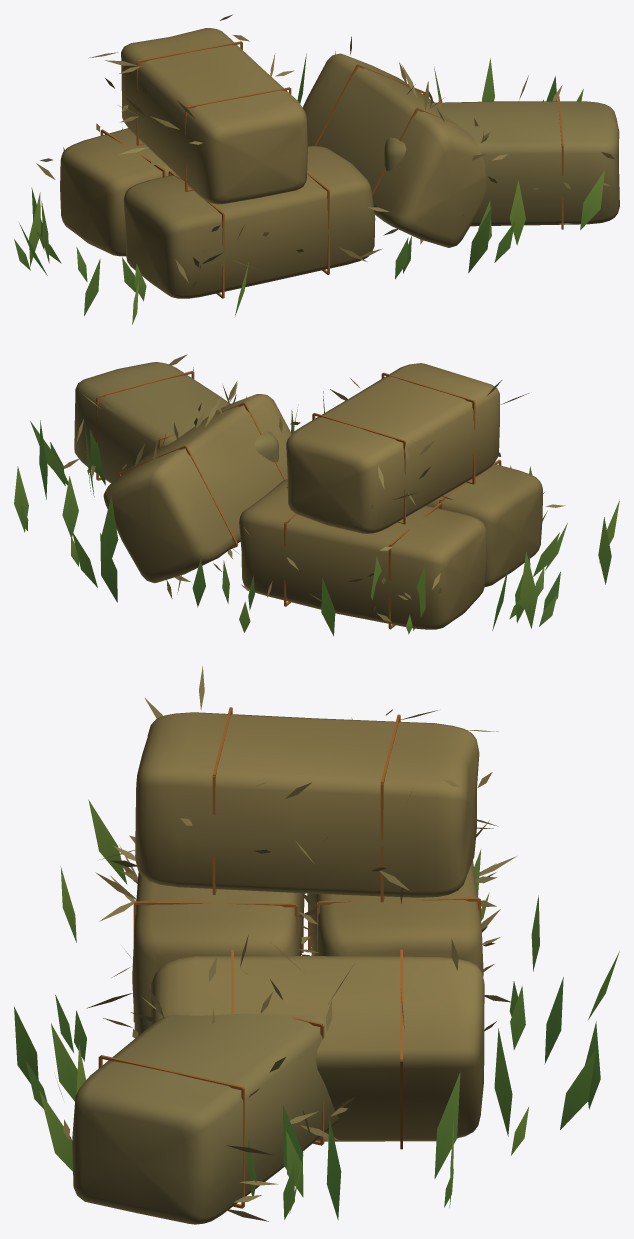
File: hay_bales.glb
3 views of the same model, one above another, from view 1: azimuth 30°, elevation 25°; view 2: azimuth 150°, elevation 25°; view 3: azimuth 270°, elevation 25° (orthographic). The views are drawn at different scales.
Parts seen in each view (by area): view 1: Body, Grass; view 2: Body, Grass; view 3: Body, Grass.
Boxes of the visible parts, x1=… form: Body: x1=36, y1=14, x2=619, y2=298; Grass: x1=14, y1=51, x2=604, y2=324; Body: x1=63, y1=354, x2=565, y2=629; Grass: x1=14, y1=367, x2=619, y2=636; Body: x1=57, y1=666, x2=516, y2=1224; Grass: x1=14, y1=799, x2=619, y2=1220.
Size of the model in its own units: 2.57 by 0.9617 by 1.72.
